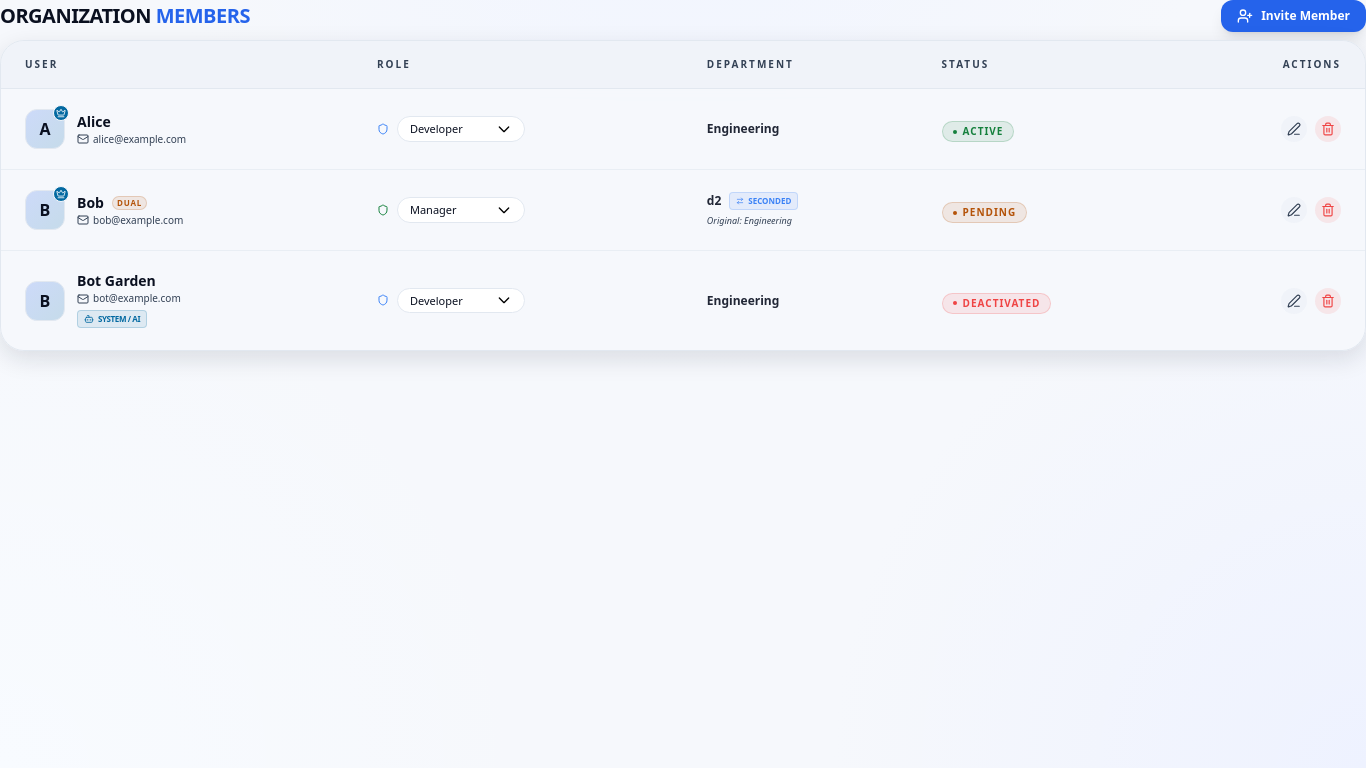
Test: MemberTable › opens DestructiveConfirmModal when delete button is clicked
Click the button named "Delete Alice": (1328, 129) [1315,116,1341,142]
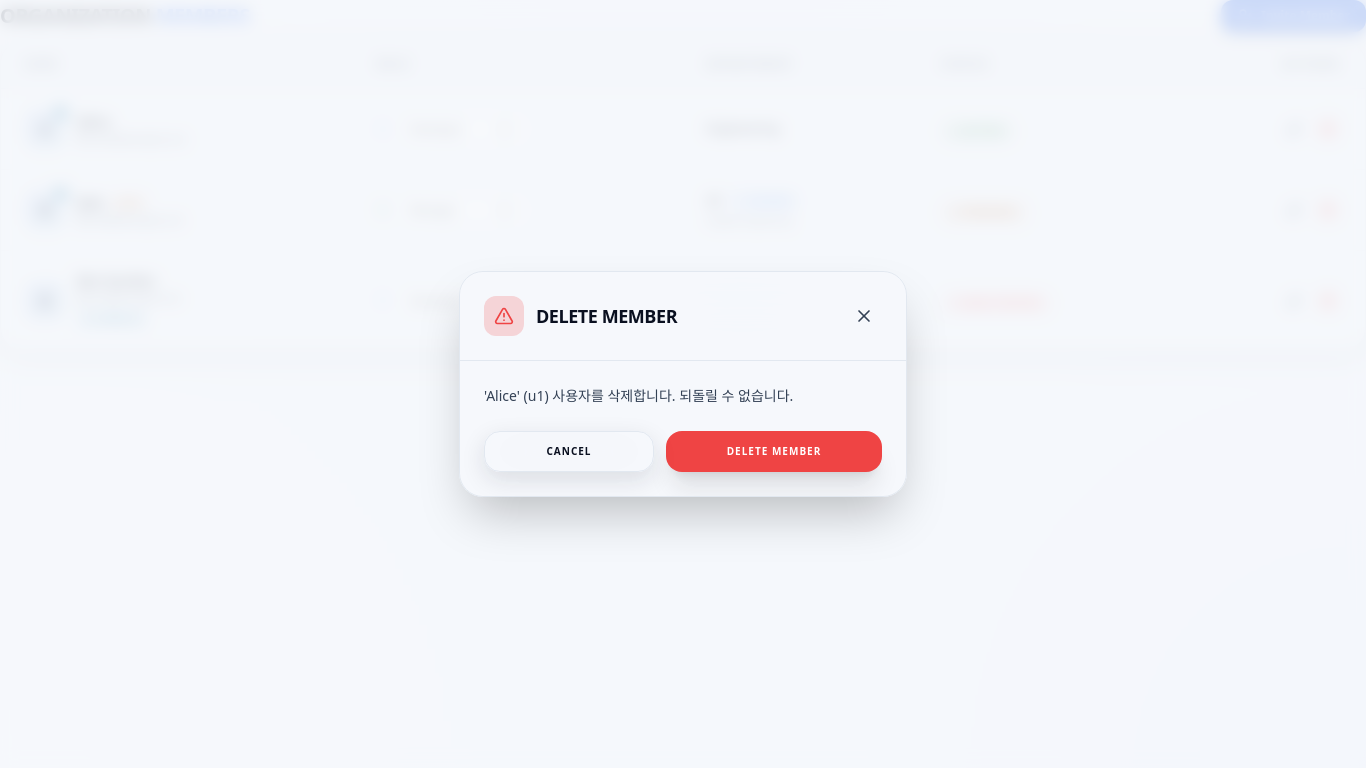
Now the text "'Alice' (u1) 사용자를 삭제합니다. 되돌릴 수 없습니다." is shown, box [484,386,793,405]
